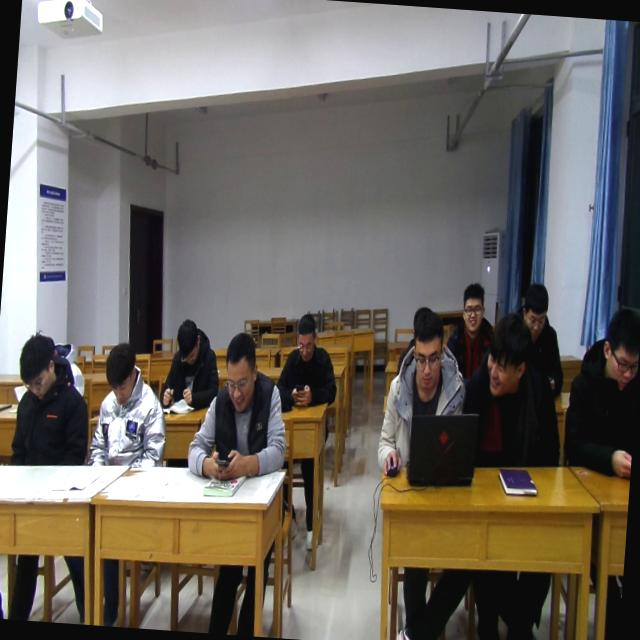down: (591, 297, 640, 395), (218, 326, 261, 414), (404, 307, 446, 395), (12, 327, 58, 400), (101, 336, 140, 409), (518, 276, 553, 340), (170, 314, 204, 366), (290, 309, 320, 365)
lookup: (456, 274, 490, 336)
sit: (457, 312, 570, 469), (186, 326, 294, 486), (376, 306, 470, 486), (559, 301, 640, 484), (8, 331, 96, 474), (85, 340, 174, 477), (442, 280, 500, 408), (512, 280, 573, 398), (156, 314, 222, 413), (276, 312, 342, 411)
